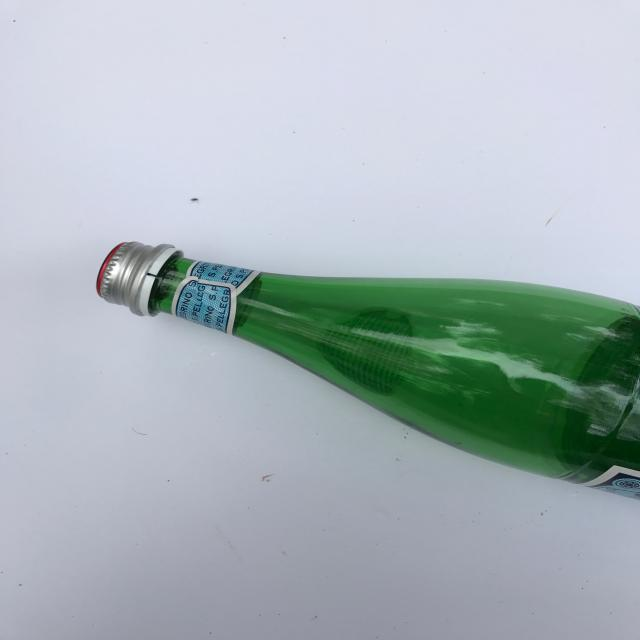glass: (96, 240, 639, 501)
